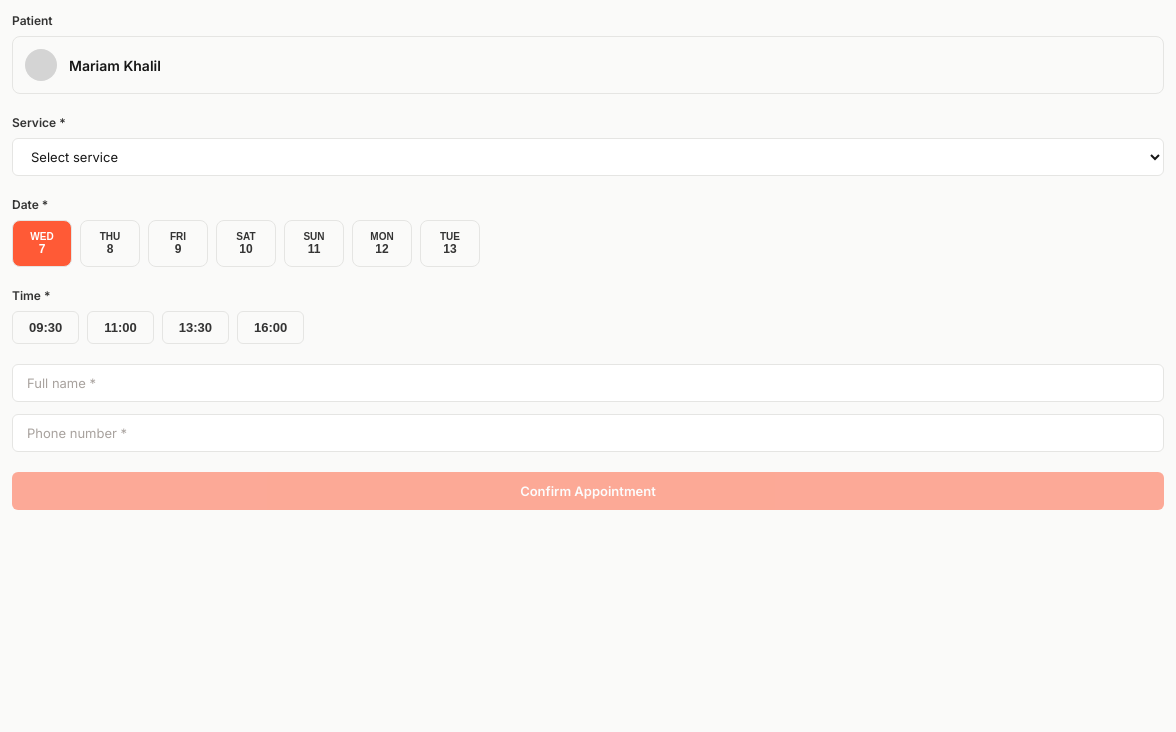
Test case: BookingDrawer flow and validation › gates appointment confirmation until service, time slot, name, and phone are provided
The image size is (1176, 732).
Expected: the button "Confirm Appointment" is disabled, x1=12 y1=472 x2=1164 y2=510
Select service
Select "Dental Cleaning & Consultation — From 600 EGP" in the dropdown. click: (588, 157)
box: x1=12 y1=138 x2=1164 y2=176
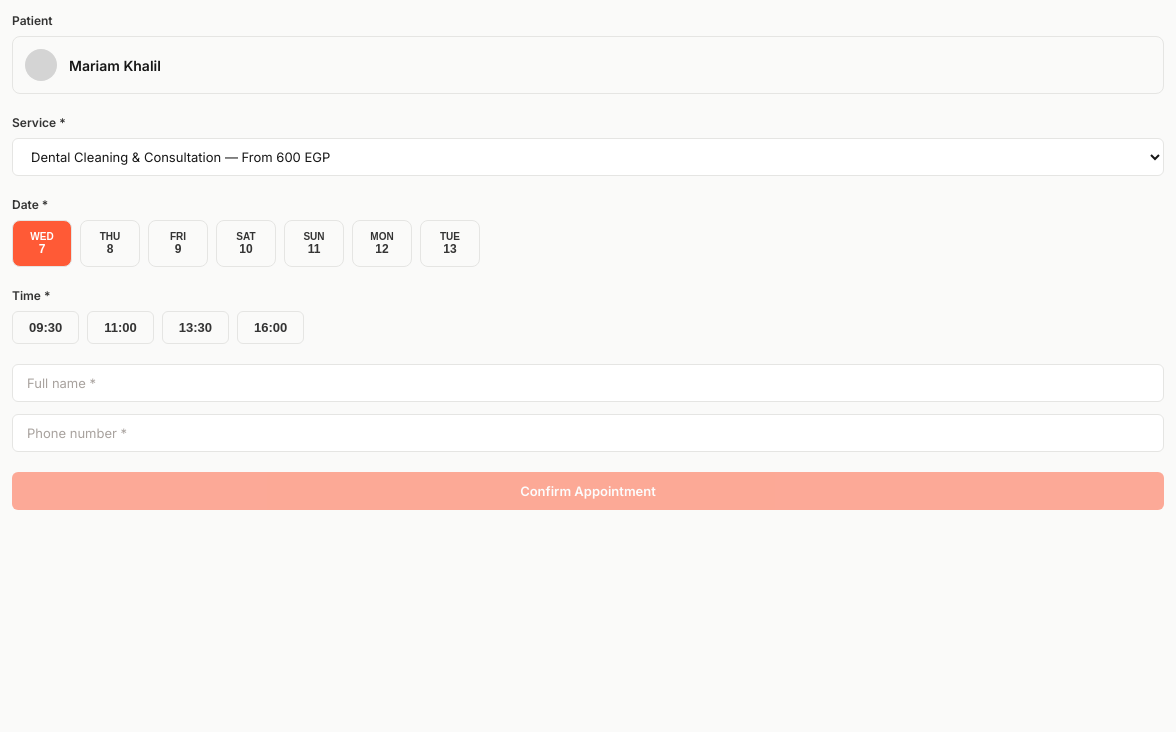
Expected: the button "Confirm Appointment" is disabled, x1=12 y1=472 x2=1164 y2=510
Select time slot
Click the button "11:00". click: click(121, 328)
box: x1=87 y1=311 x2=154 y2=344
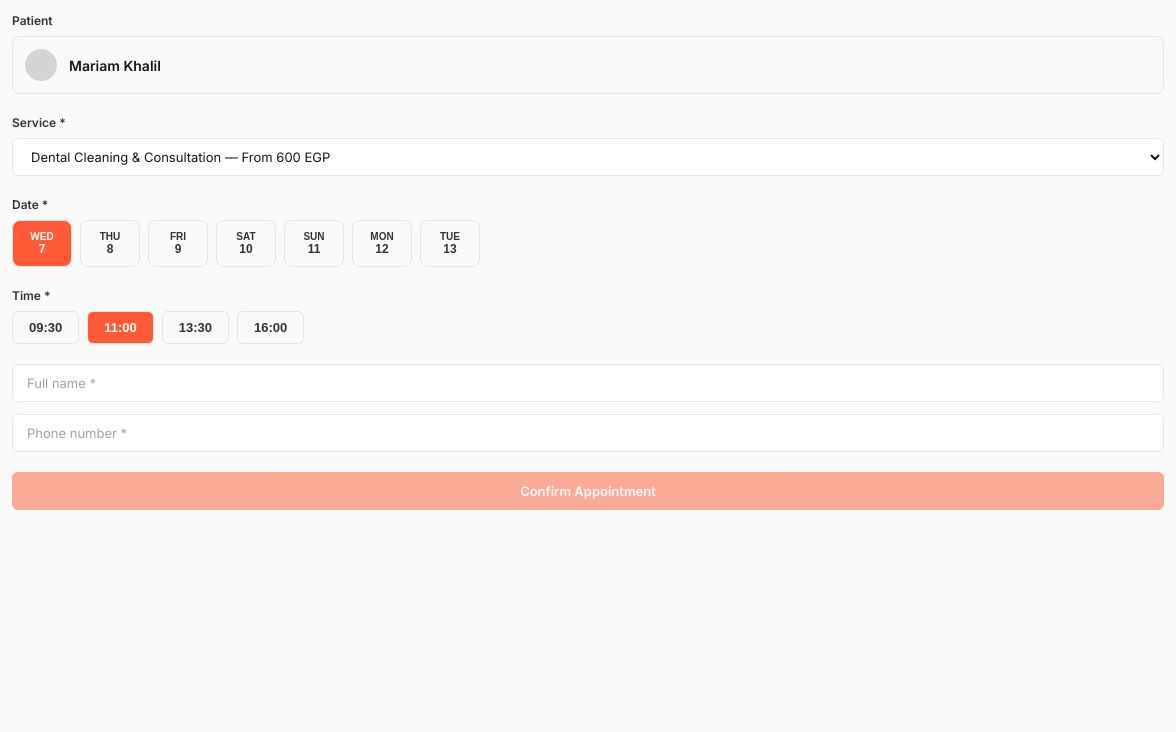
Expected: the button "Confirm Appointment" is disabled, x1=12 y1=472 x2=1164 y2=510
Enter full name
Type "Mariam Khalil" into the field with placeholder "Full name *". click: (588, 383)
box: x1=12 y1=364 x2=1164 y2=402
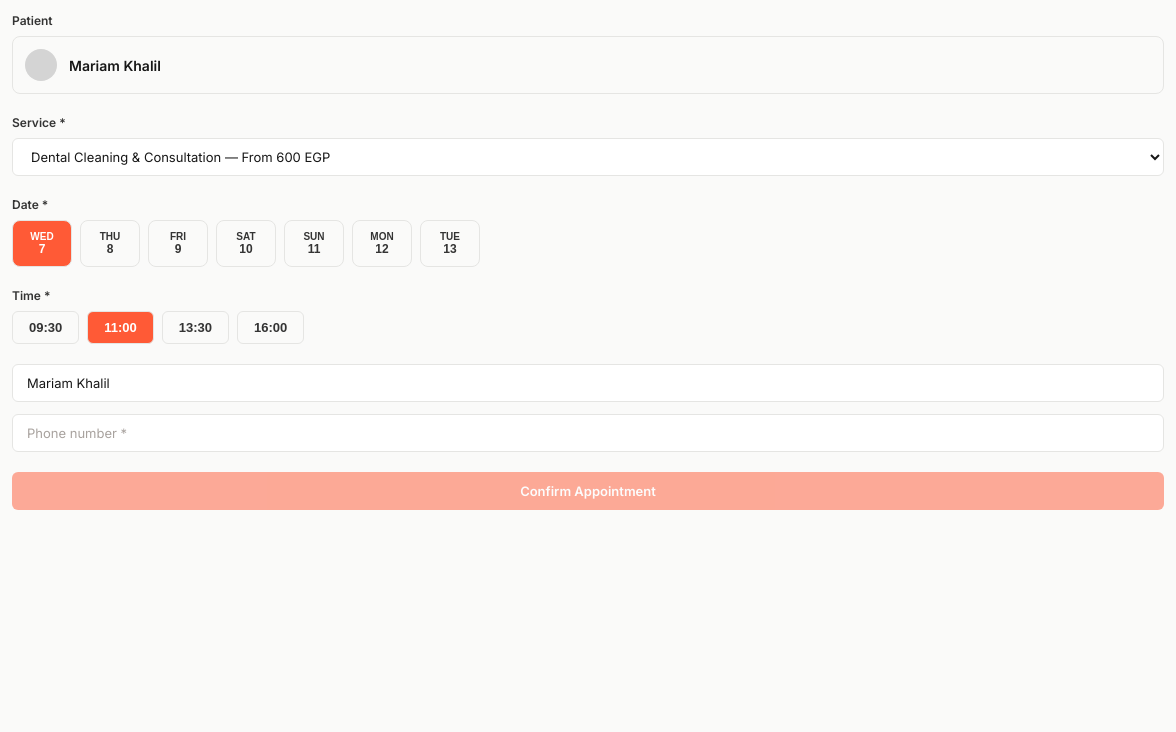
Expected: the button "Confirm Appointment" is disabled, x1=12 y1=472 x2=1164 y2=510
Enter phone
Type "01005551234" into the field with placeholder "Phone number *". click: (588, 433)
box: x1=12 y1=414 x2=1164 y2=452
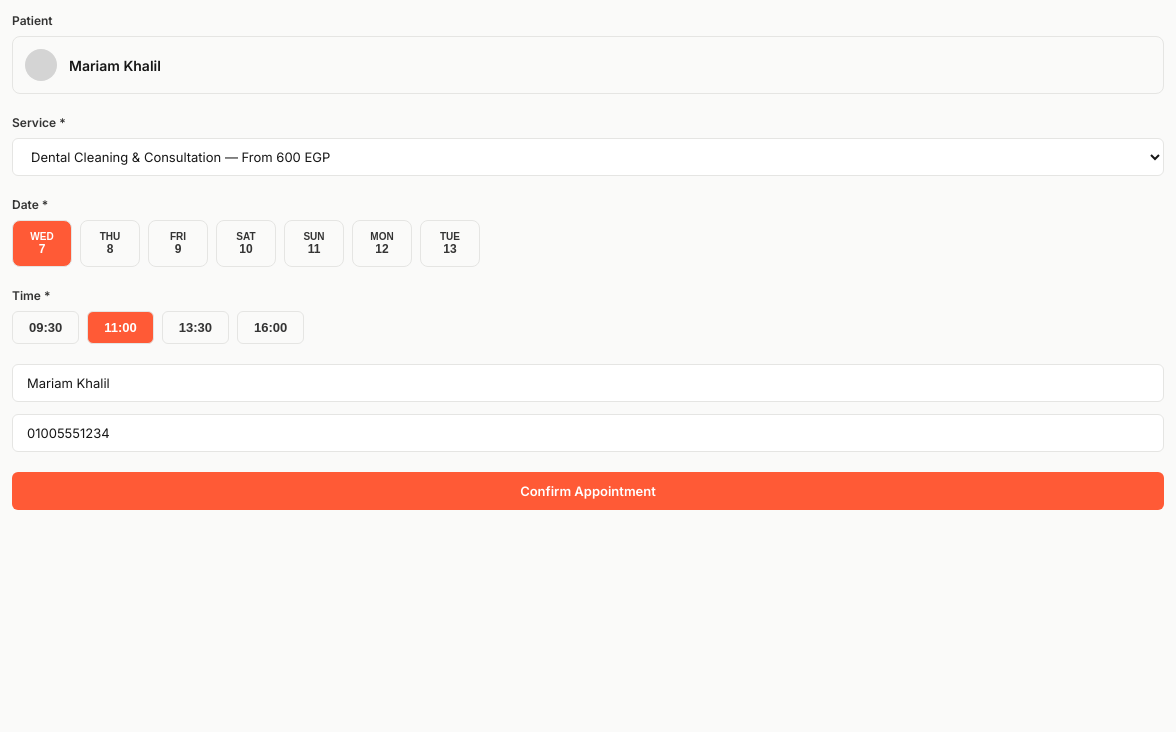
Expected: the button "Confirm Appointment" is enabled, x1=12 y1=472 x2=1164 y2=510
